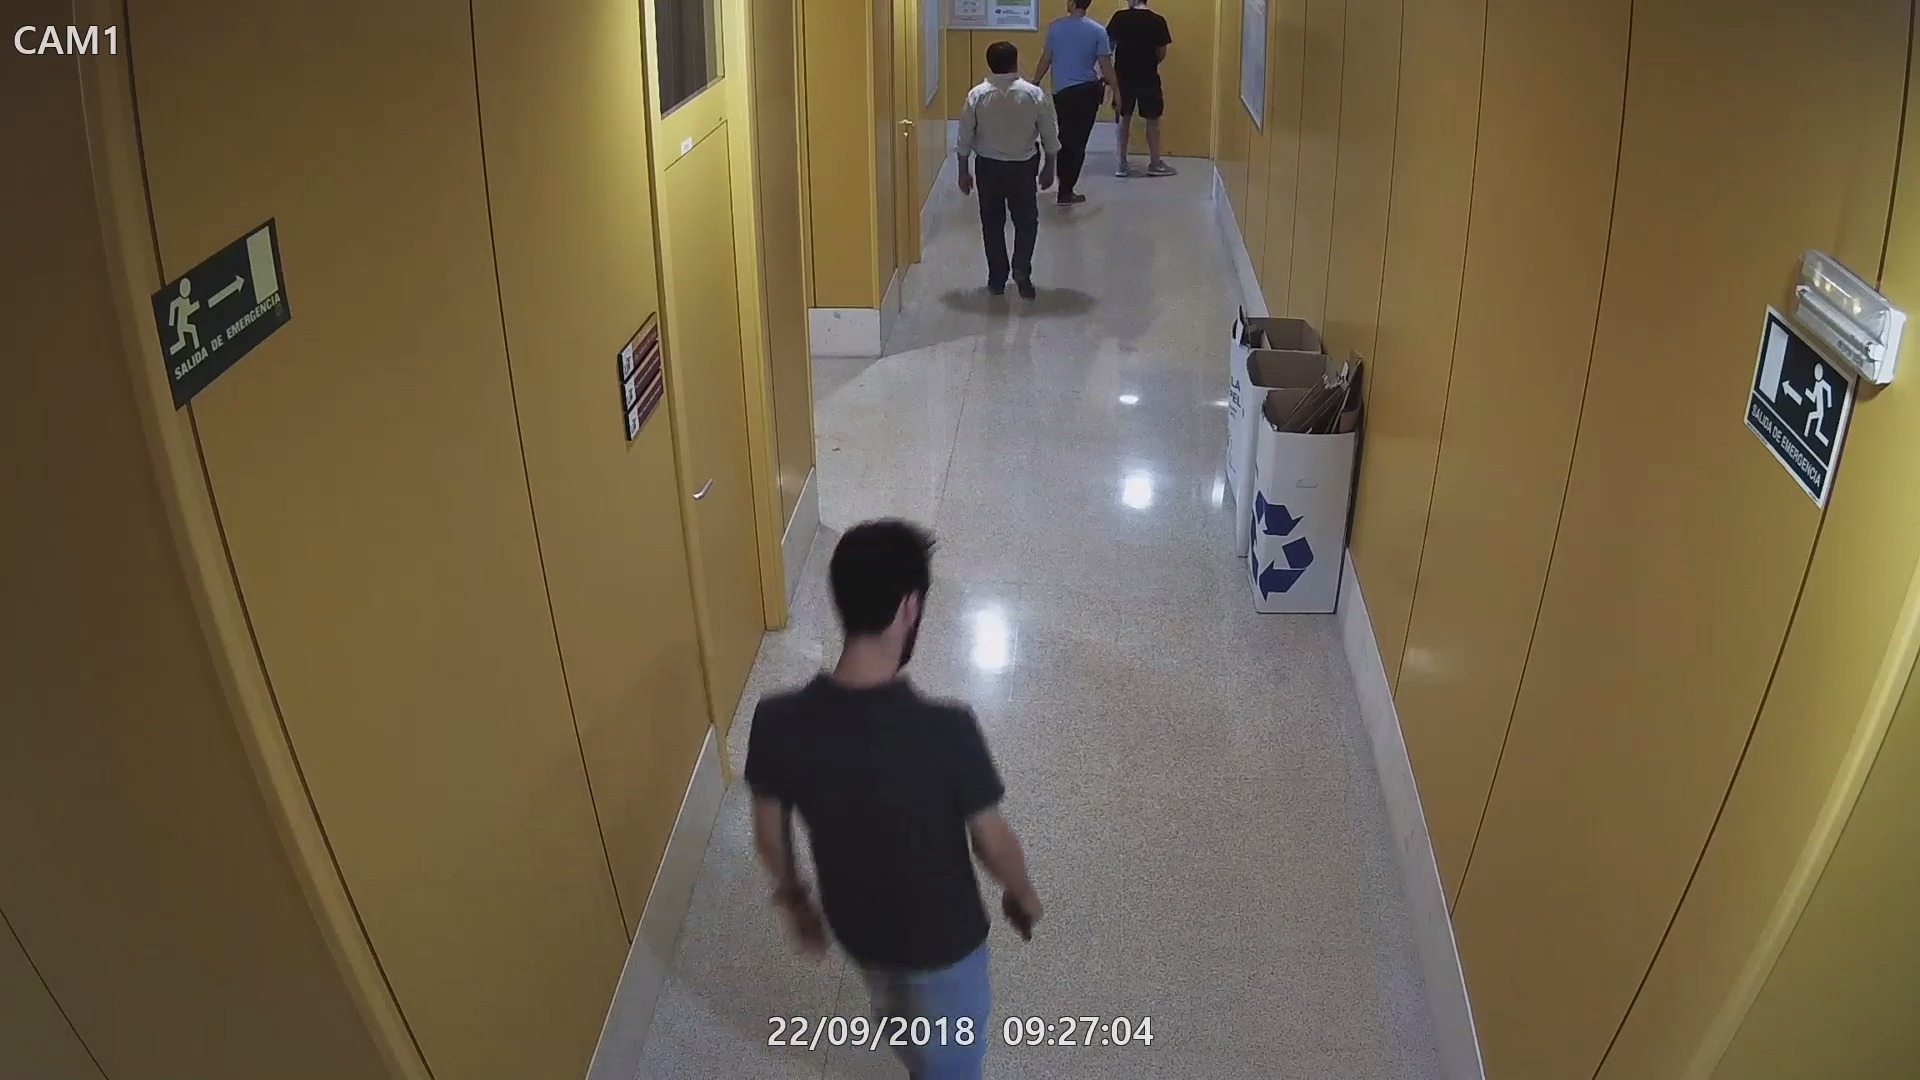Handgun: (997, 877, 1048, 943), (1102, 94, 1129, 128)
